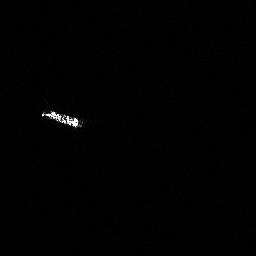ship: (40, 110, 79, 128)
